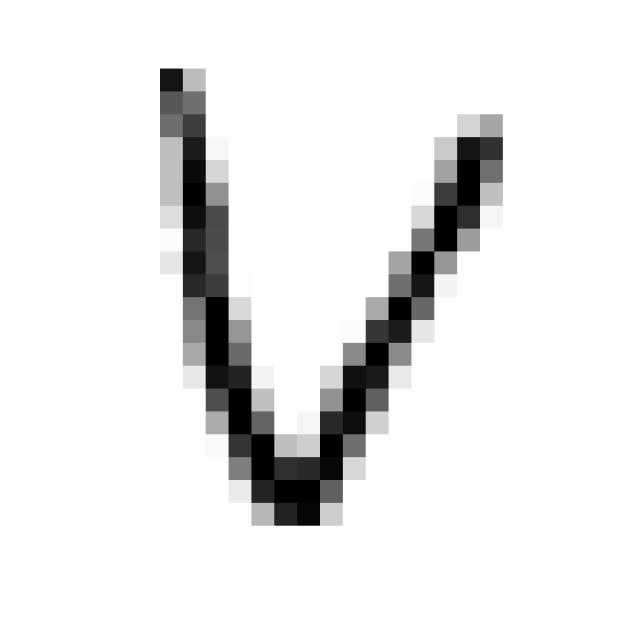7 -seven-: (139, 46, 527, 550)
